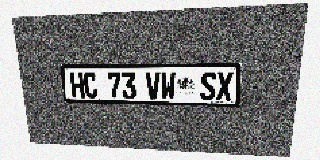3: (121, 72, 136, 99)
7: (107, 72, 122, 99)
C: (83, 72, 98, 98)
H: (70, 72, 85, 98)
S: (200, 72, 216, 100)
V: (146, 72, 160, 99)
W: (161, 72, 175, 100)
X: (216, 72, 233, 101)
